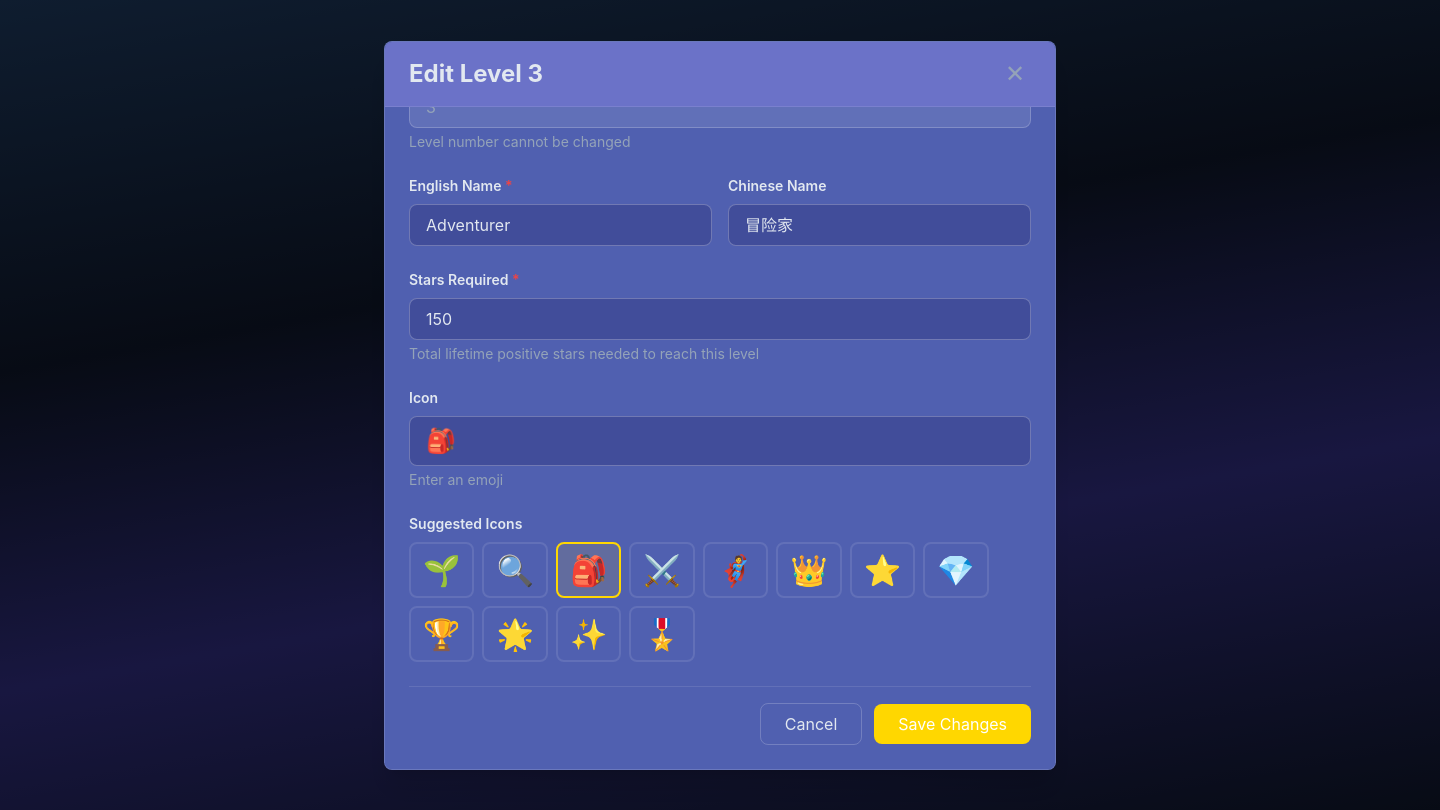
Test: LevelFormModal › Error Handling › should display error when update fails
(page scrolled)
Click the button "Save Changes" at x=953, y=724, box x1=874 y1=704 x2=1031 y2=744
(page scrolled)
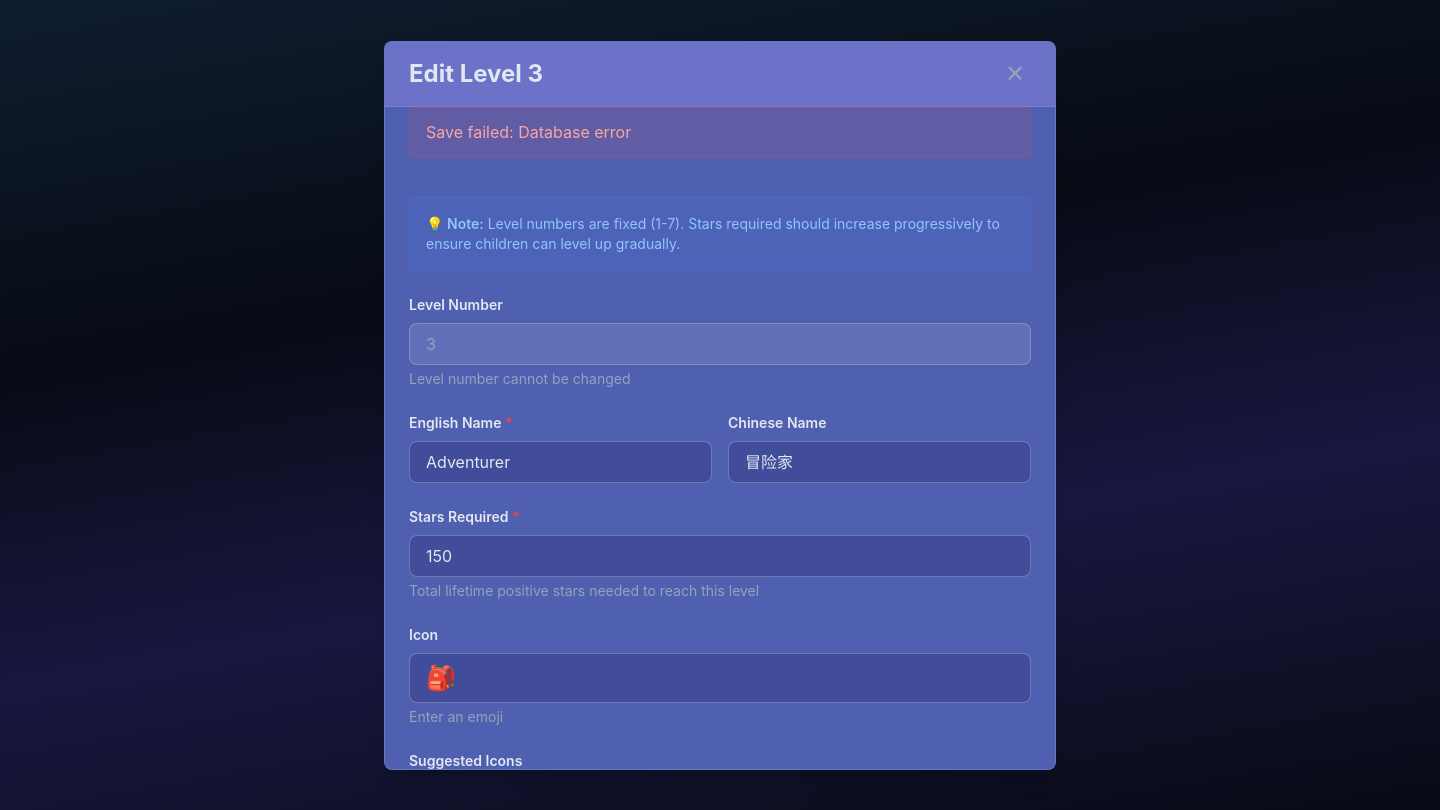
Check: the text "Save failed: Database error" is shown, box x1=409 y1=106 x2=1031 y2=156
